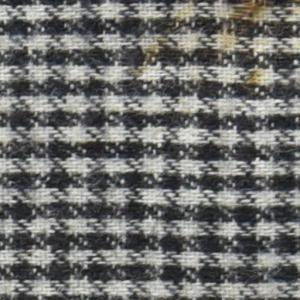Oil Stain: (125, 1, 300, 96)
